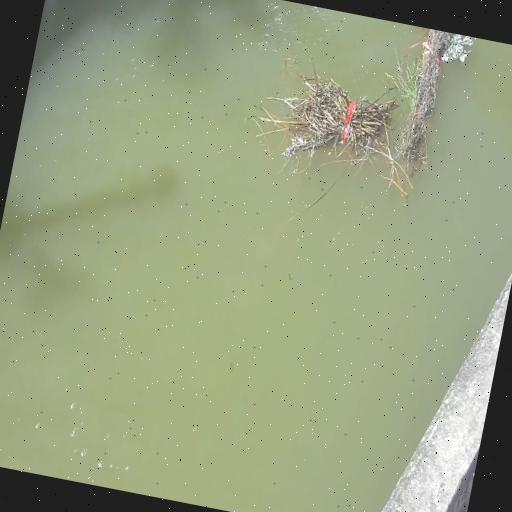twig: (276, 72, 408, 198), (376, 24, 474, 187)
